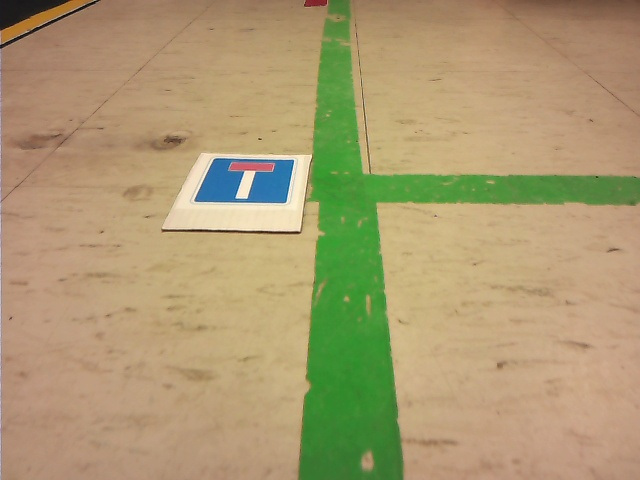DEAD END: (196, 159, 294, 203)
